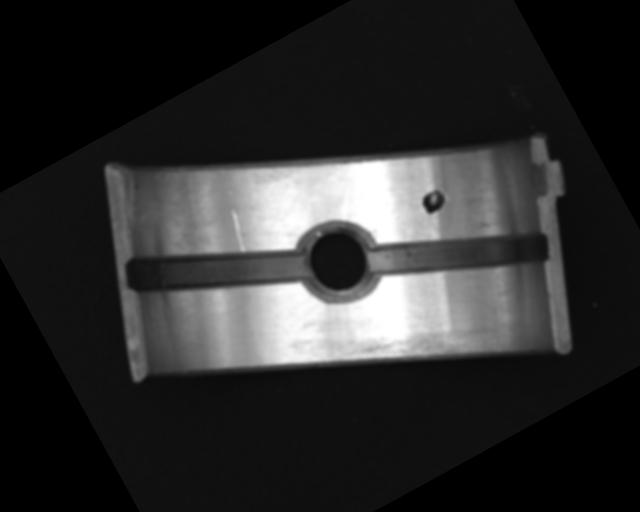blot: (418, 185, 452, 216)
gap: (121, 187, 310, 352), (364, 173, 553, 334)
hole: (286, 207, 391, 316)
nick: (222, 208, 255, 253)
scratch: (336, 284, 502, 421)
